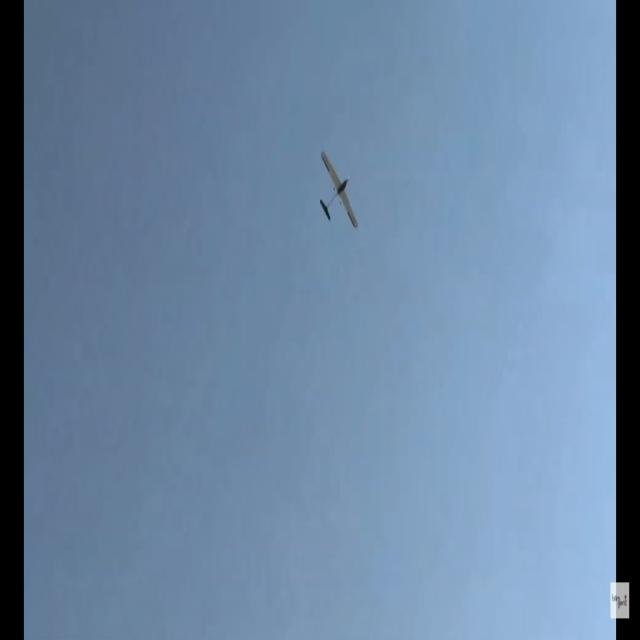iha: (320, 182, 360, 199)
